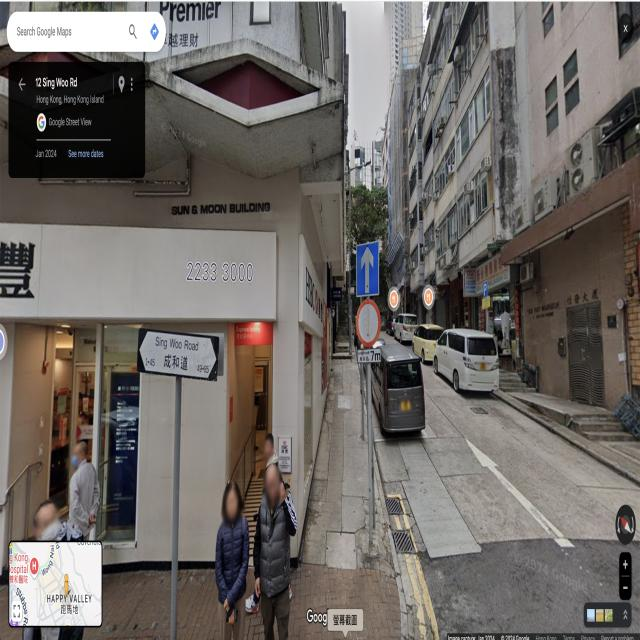Direction-Sign: (356, 244, 379, 294)
Order-Sign: (356, 299, 380, 347)
Street-Direction-Sign: (135, 328, 220, 382)
